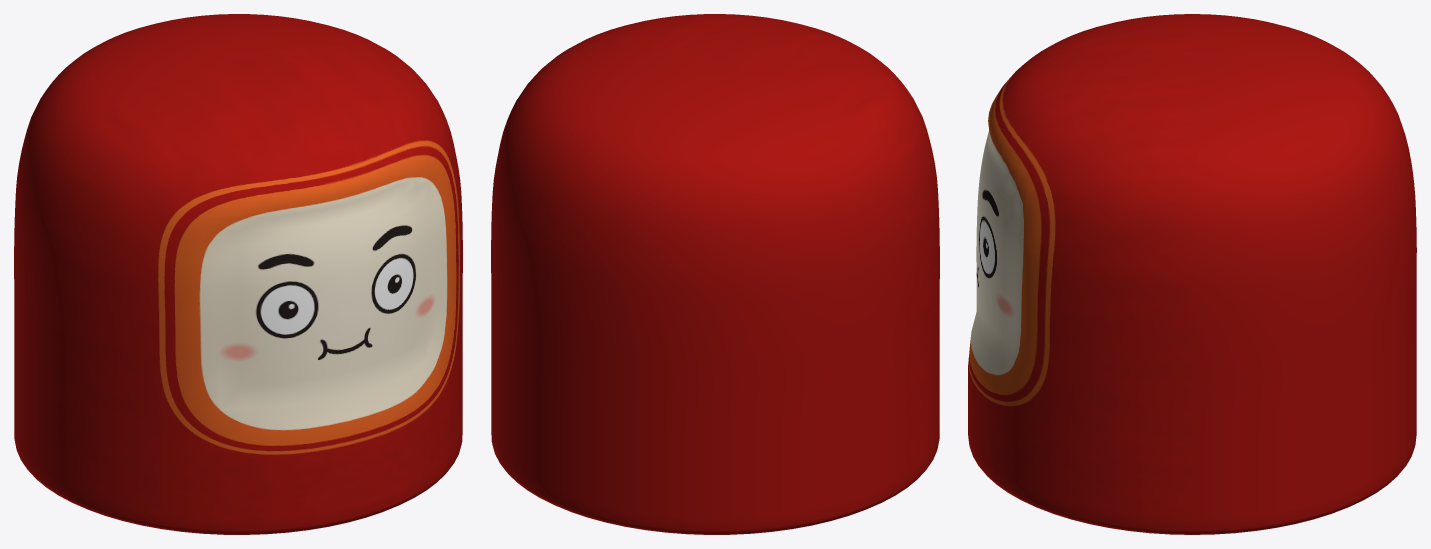
Rendered from kidaru.fbx.
The picture shows the model from 3 angles, left to right: view 1: azimuth 30°, elevation 25°; view 2: azimuth 150°, elevation 25°; view 3: azimuth 270°, elevation 25°; orthographic projection.
Parts seen in each view (by area): view 1: kidaru; view 2: kidaru; view 3: kidaru.
Part boxes in pixels (x1,y1,x2,y2): kidaru: (14,14,462,534); kidaru: (491,14,939,534); kidaru: (968,14,1416,534).
Bounding box in the file's own units: 1 × 0.9425 × 1.
1 material, 1 textured.
